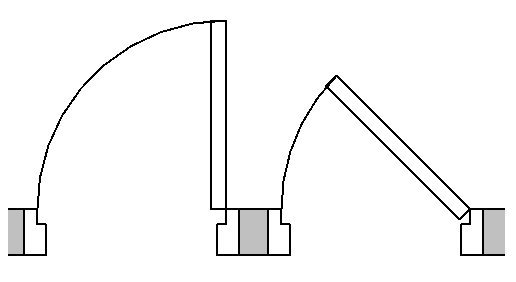door: (34, 9, 216, 200), (275, 27, 388, 208)
